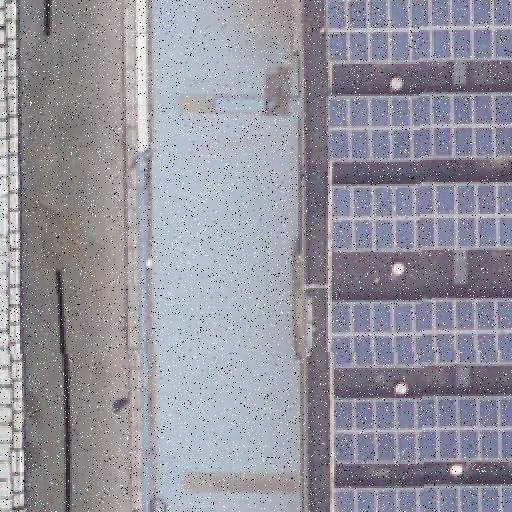solar-panel: (329, 297, 511, 367), (328, 182, 512, 250), (328, 95, 512, 161), (329, 399, 511, 465), (328, 0, 512, 64), (332, 486, 512, 512)
